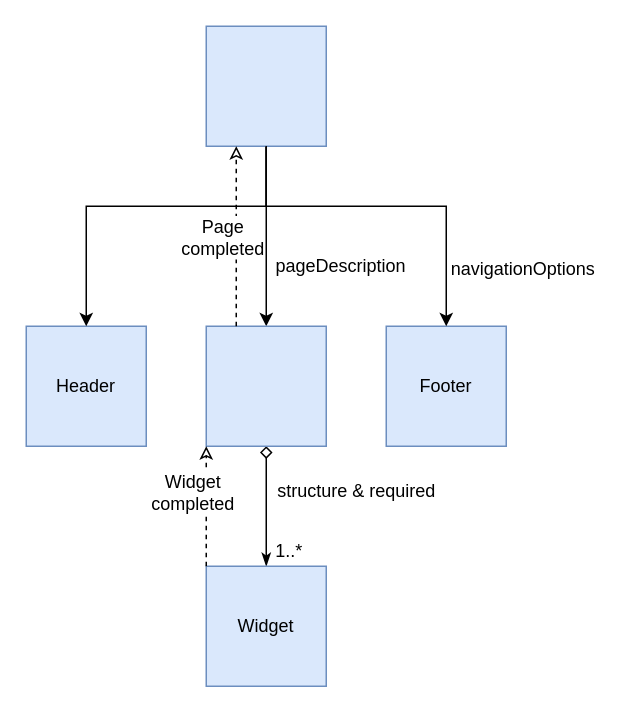
This 620x713 diagram has some shape labels left out. Here are the shapes that lost their labels. From the top down, the centre of each, then its label:
At (265,85): "App".
At (265,385): "Page".
